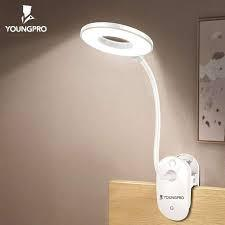Lamp: (77, 19, 203, 225)
